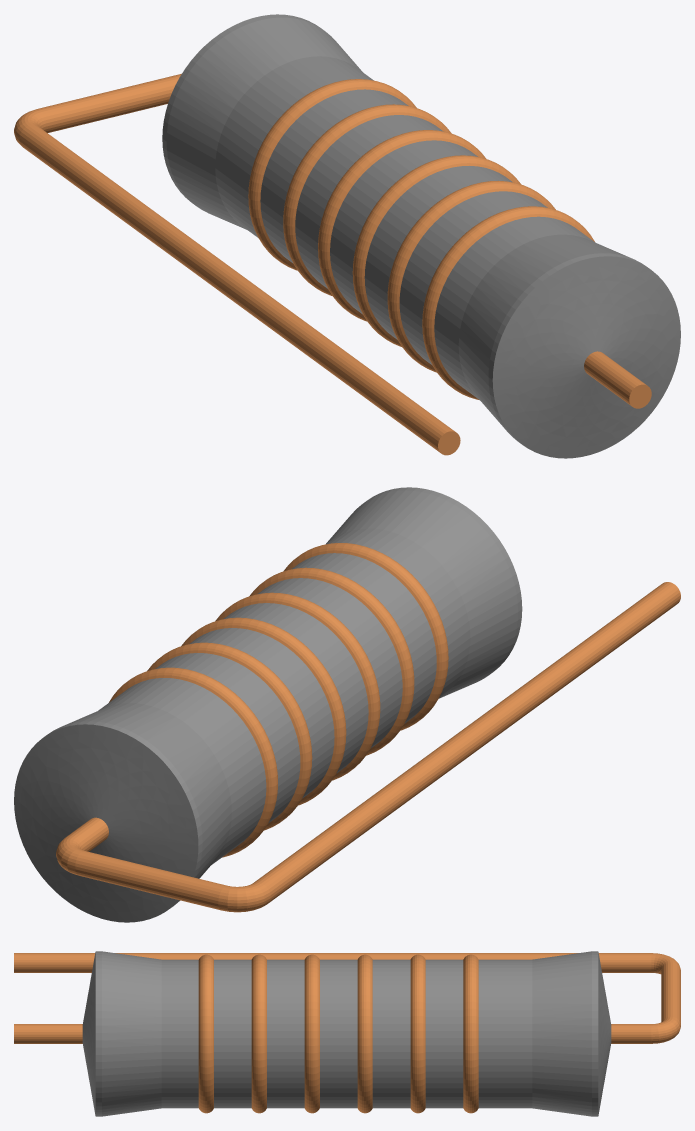
File: L_Axial_L24.0mm_D7.5mm_P7.62mm_Vertical_Fastron_MESC.glb
The picture shows the model from 3 angles, top to bottom: view 1: azimuth 30°, elevation 25°; view 2: azimuth 150°, elevation 25°; view 3: azimuth 270°, elevation 25°; orthographic projection. The views are drawn at different scales.
Visible parts, largest first — view 1: Shape_IndexedFaceSet.002, Shape_IndexedFaceSet.025, Shape_IndexedFaceSet.018, Shape_IndexedFaceSet.017, Shape_IndexedFaceSet.004, Shape_IndexedFaceSet.005, Shape_IndexedFaceSet.015, Shape_IndexedFaceSet.007, Shape_IndexedFaceSet.011, Shape_IndexedFaceSet.013, Shape_IndexedFaceSet.009, Shape_IndexedFaceSet.006 (+9 smaller); view 2: Shape_IndexedFaceSet.020, Shape_IndexedFaceSet.025, Shape_IndexedFaceSet.004, Shape_IndexedFaceSet.017, Shape_IndexedFaceSet.018, Shape_IndexedFaceSet.007, Shape_IndexedFaceSet.015, Shape_IndexedFaceSet.013, Shape_IndexedFaceSet.009, Shape_IndexedFaceSet.011, Shape_IndexedFaceSet.005, Shape_IndexedFaceSet.023 (+11 smaller); view 3: Shape_IndexedFaceSet.004, Shape_IndexedFaceSet.018, Shape_IndexedFaceSet.017, Shape_IndexedFaceSet.013, Shape_IndexedFaceSet.015, Shape_IndexedFaceSet.007, Shape_IndexedFaceSet.009, Shape_IndexedFaceSet.011, Shape_IndexedFaceSet.005, Shape_IndexedFaceSet.025, Shape_IndexedFaceSet.016, Shape_IndexedFaceSet.008 (+13 smaller).
Boxes of the visible parts, x1,y1,x2,y2 form: Shape_IndexedFaceSet.002: [492, 256, 680, 458]; Shape_IndexedFaceSet.025: [19, 124, 455, 452]; Shape_IndexedFaceSet.018: [166, 17, 362, 229]; Shape_IndexedFaceSet.017: [215, 56, 373, 237]; Shape_IndexedFaceSet.004: [458, 234, 629, 429]; Shape_IndexedFaceSet.005: [434, 216, 594, 399]; Shape_IndexedFaceSet.015: [260, 89, 408, 262]; Shape_IndexedFaceSet.007: [399, 191, 547, 365]; Shape_IndexedFaceSet.011: [330, 140, 477, 314]; Shape_IndexedFaceSet.013: [295, 115, 443, 288]; Shape_IndexedFaceSet.009: [364, 166, 512, 339]; Shape_IndexedFaceSet.006: [422, 206, 594, 399]; Shape_IndexedFaceSet.020: [14, 724, 198, 922]; Shape_IndexedFaceSet.025: [254, 582, 680, 902]; Shape_IndexedFaceSet.004: [326, 490, 517, 698]; Shape_IndexedFaceSet.017: [98, 678, 266, 864]; Shape_IndexedFaceSet.018: [62, 703, 231, 878]; Shape_IndexedFaceSet.007: [292, 553, 436, 723]; Shape_IndexedFaceSet.015: [155, 653, 300, 823]; Shape_IndexedFaceSet.013: [189, 628, 334, 798]; Shape_IndexedFaceSet.009: [257, 578, 402, 748]; Shape_IndexedFaceSet.011: [223, 603, 368, 773]; Shape_IndexedFaceSet.005: [326, 528, 470, 698]; Shape_IndexedFaceSet.023: [75, 850, 226, 910]; Shape_IndexedFaceSet.004: [102, 951, 161, 1116]; Shape_IndexedFaceSet.018: [532, 951, 591, 1116]; Shape_IndexedFaceSet.017: [478, 959, 532, 1108]; Shape_IndexedFaceSet.013: [372, 959, 410, 1108]; Shape_IndexedFaceSet.015: [425, 959, 463, 1108]; Shape_IndexedFaceSet.007: [214, 959, 251, 1108]; Shape_IndexedFaceSet.009: [267, 959, 304, 1108]; Shape_IndexedFaceSet.011: [320, 959, 357, 1108]; Shape_IndexedFaceSet.005: [161, 959, 198, 1108]; Shape_IndexedFaceSet.025: [14, 953, 651, 972]; Shape_IndexedFaceSet.016: [463, 954, 478, 1113]; Shape_IndexedFaceSet.008: [251, 954, 266, 1113].
Bounding box in the file's own units: 4.65 × 2.95 × 11.91.
